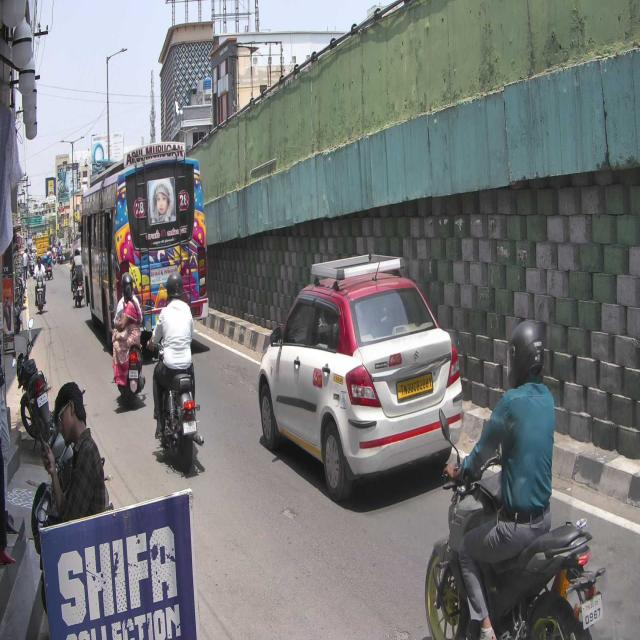single_rider: (424, 317, 607, 640), (146, 269, 206, 475)
